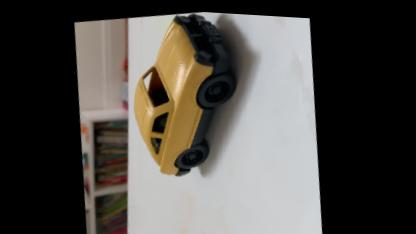yellow mini cooper: (116, 6, 257, 183)
